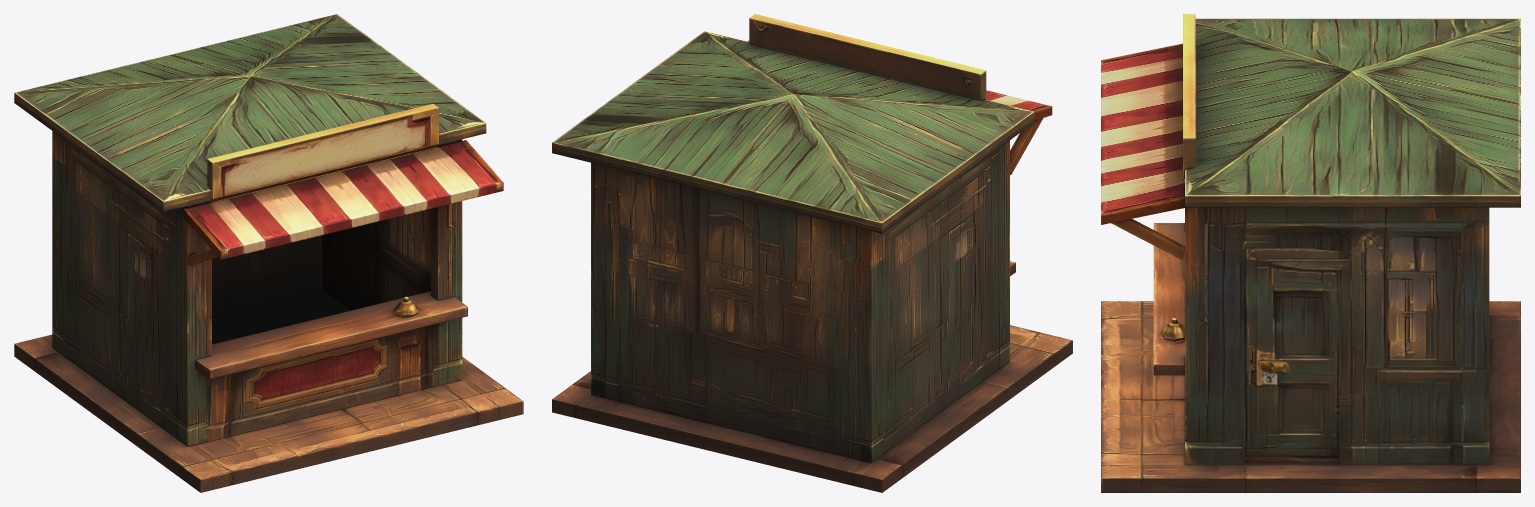
The model's file is LM_Kiosk_Auction.fbx.
3 renders of one model, left to right at view 1: azimuth 30°, elevation 25°; view 2: azimuth 150°, elevation 25°; view 3: azimuth 270°, elevation 25°, orthographic. The views are drawn at different scales.
Parts seen in each view (by area): view 1: LM_Kiosk_Auction; view 2: LM_Kiosk_Auction; view 3: LM_Kiosk_Auction.
Part boxes in pixels (x1,y1,x2,y2): LM_Kiosk_Auction: [14, 14, 523, 492]; LM_Kiosk_Auction: [552, 14, 1072, 492]; LM_Kiosk_Auction: [1101, 14, 1520, 492].
Bounding box in the file's own units: 4 × 4 × 3.5.
1 material, 1 textured.
